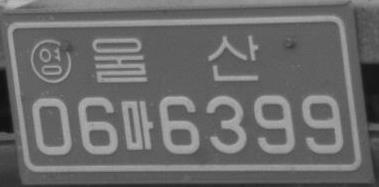0: (31, 97, 73, 155)
3: (206, 94, 247, 155)
6: (158, 94, 200, 155), (77, 96, 118, 155)
9: (301, 93, 344, 155), (254, 93, 294, 154)
마: (120, 99, 154, 150)
영: (30, 39, 72, 84)
울산_D: (92, 33, 258, 83)
